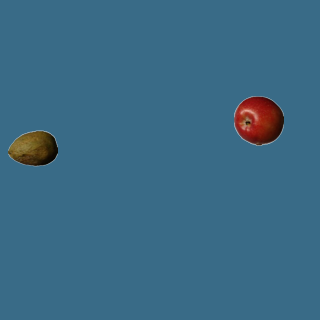Apple Braeburn: (233, 95, 283, 145)
Papaya: (7, 123, 57, 173)
